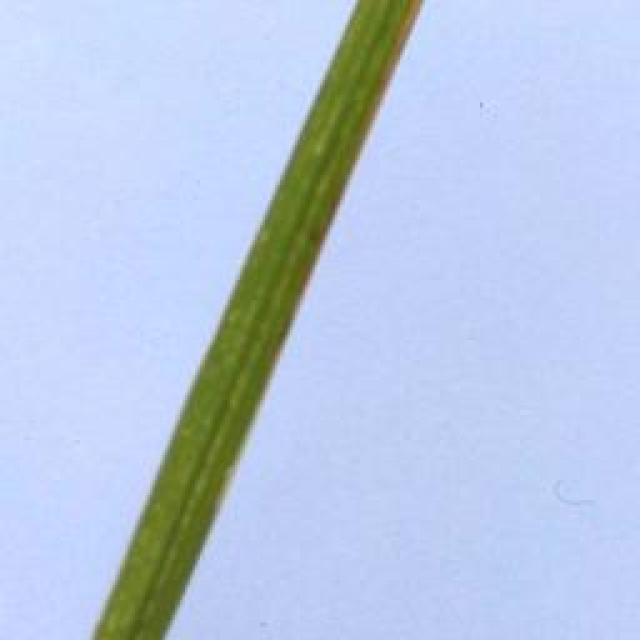Bacterial_Blight: (357, 0, 427, 122)
